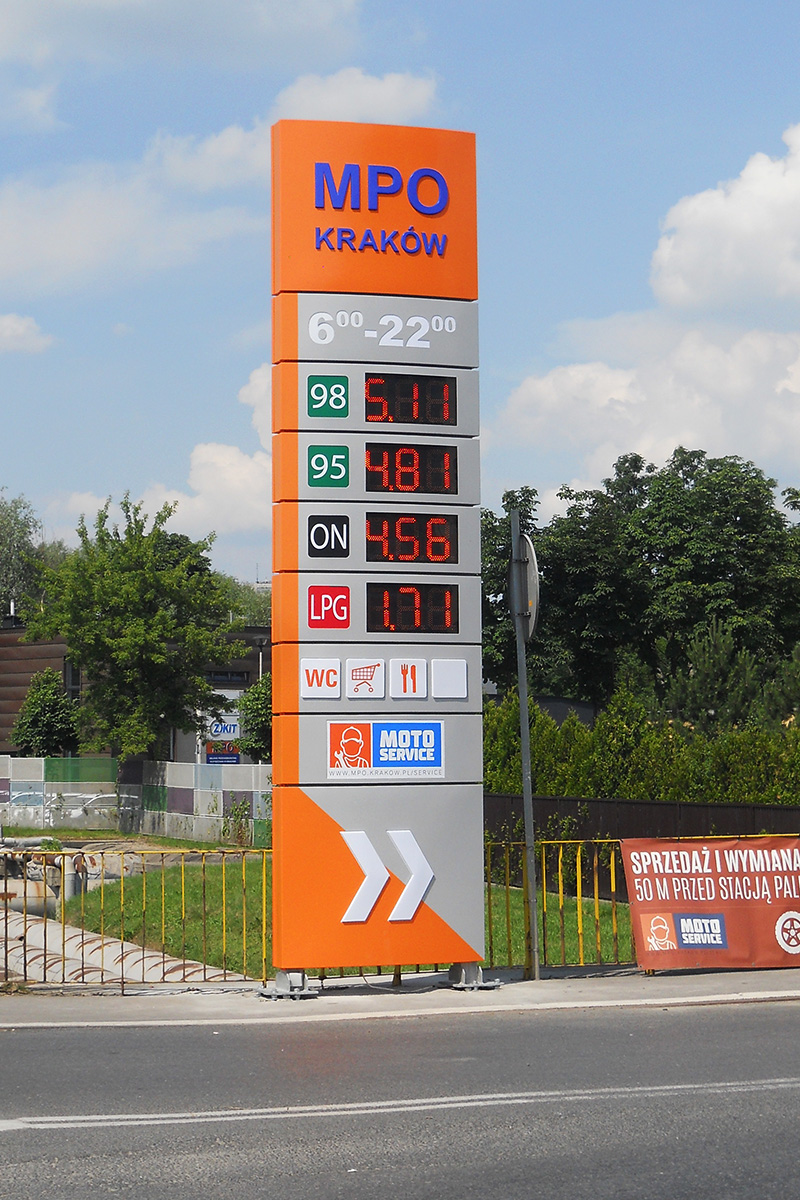LPG: (303, 576, 355, 634)
ON: (305, 508, 351, 558)
PB95: (307, 440, 354, 491)
PB98: (301, 370, 349, 424)
